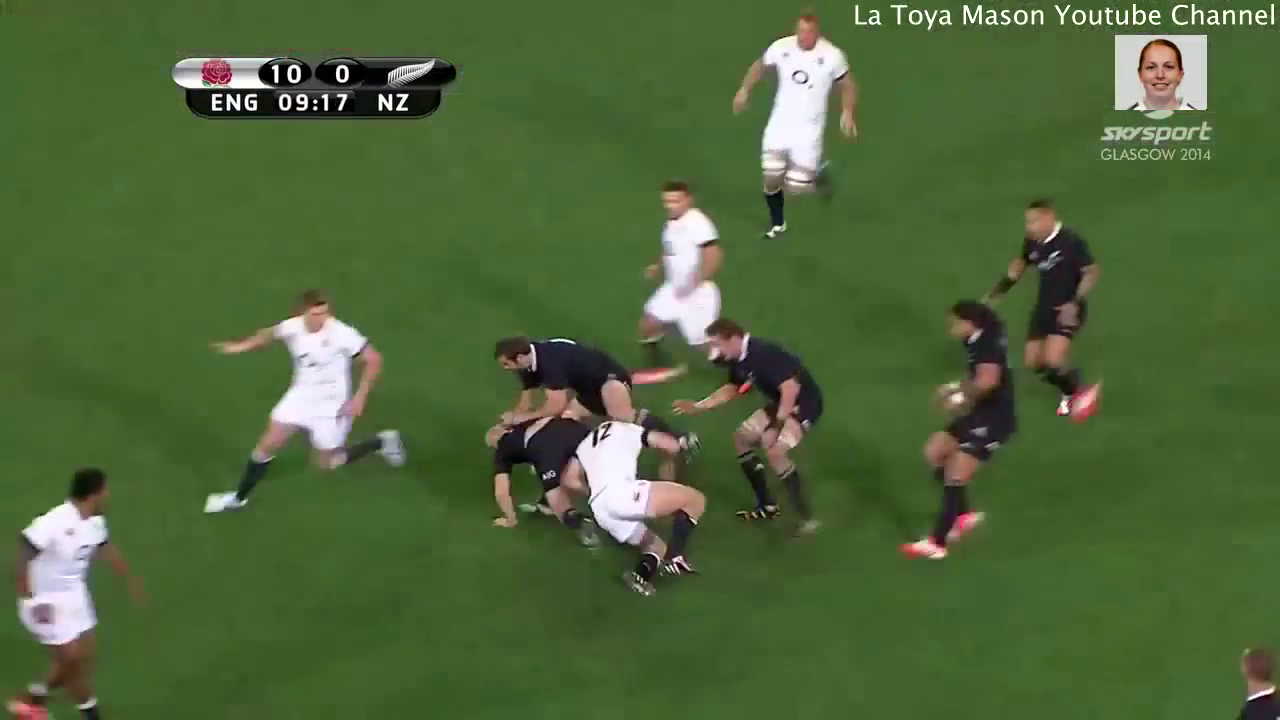player: (189, 272, 417, 526), (661, 306, 830, 561), (887, 293, 1030, 584), (1, 451, 153, 720), (715, 11, 876, 246), (970, 187, 1109, 435), (614, 171, 760, 395), (470, 313, 703, 444), (555, 400, 709, 597), (462, 388, 594, 545), (1217, 632, 1280, 720)
